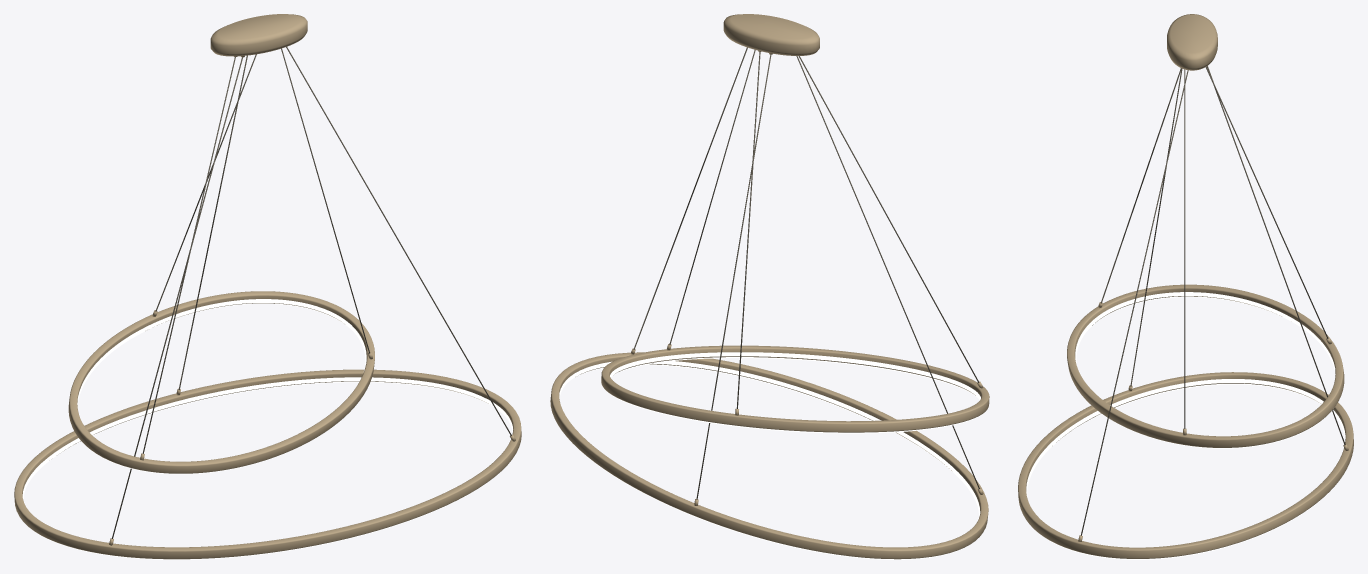
File: italian-pendant.glb
3 views of the same model, side by side, from view 1: azimuth 30°, elevation 25°; view 2: azimuth 150°, elevation 25°; view 3: azimuth 270°, elevation 25° (orthographic).
Visible parts, largest first — view 1: Satin champagne anodised aluminium, Warm opal linear diffuser, Dark champagne suspension hardware; view 2: Satin champagne anodised aluminium, Warm opal linear diffuser, Dark champagne suspension hardware; view 3: Satin champagne anodised aluminium, Warm opal linear diffuser, Dark champagne suspension hardware.
Part boxes in pixels (x1=…): Satin champagne anodised aluminium: x1=14, y1=14, x2=521, y2=559; Warm opal linear diffuser: x1=22, y1=299, x2=512, y2=559; Dark champagne suspension hardware: x1=112, y1=47, x2=511, y2=538; Satin champagne anodised aluminium: x1=550, y1=14, x2=989, y2=559; Warm opal linear diffuser: x1=559, y1=352, x2=983, y2=559; Dark champagne suspension hardware: x1=633, y1=47, x2=979, y2=499; Satin champagne anodised aluminium: x1=1018, y1=14, x2=1353, y2=558; Warm opal linear diffuser: x1=1026, y1=292, x2=1345, y2=559; Dark champagne suspension hardware: x1=1080, y1=66, x2=1345, y2=535.
Bounding box in the file's own units: 0.9468 × 0.9412 × 0.6315.
